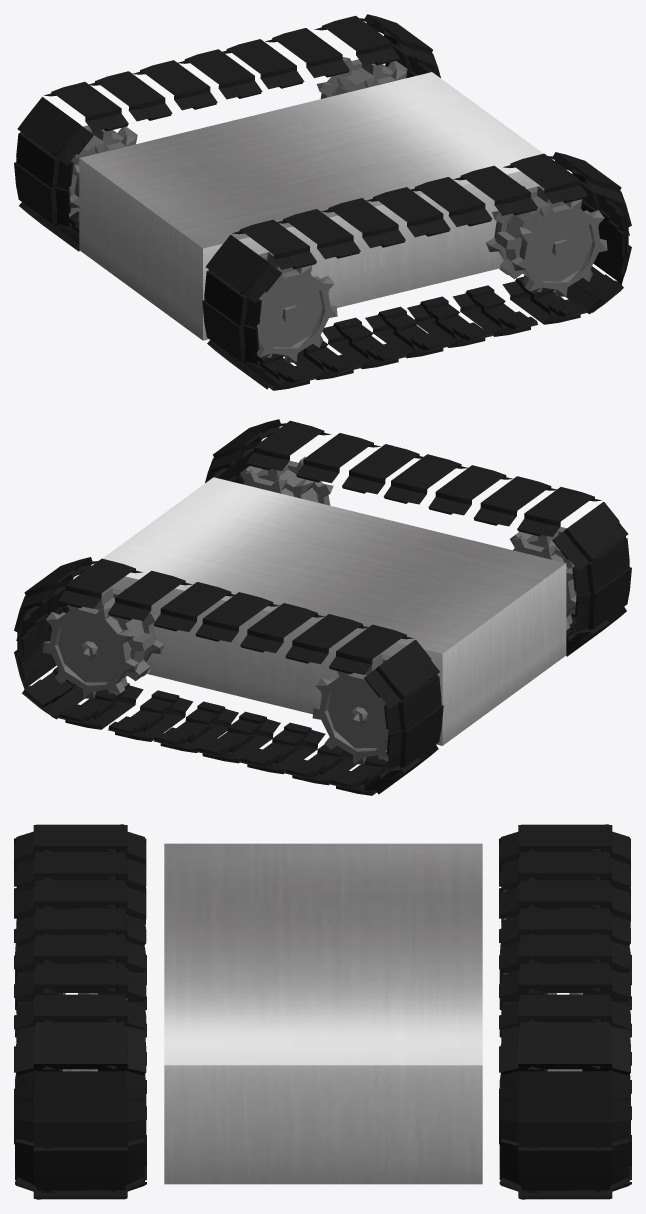
File: uhugv.dae
3 renders of one model, top to bottom at view 1: azimuth 30°, elevation 25°; view 2: azimuth 150°, elevation 25°; view 3: azimuth 270°, elevation 25°, orthographic. The views are drawn at different scales.
Visible parts, largest first — view 1: Track.028; view 2: Track.028; view 3: Track.028.
Boxes of the visible parts, box(x1,y1,x2,y2) form: Track.028: box(14, 14, 631, 390); Track.028: box(14, 419, 631, 795); Track.028: box(14, 824, 631, 1199).
Bounding box in the file's own units: 0.6244 × 0.6601 × 0.209.
Materials: 6 (6 with a texture image).
